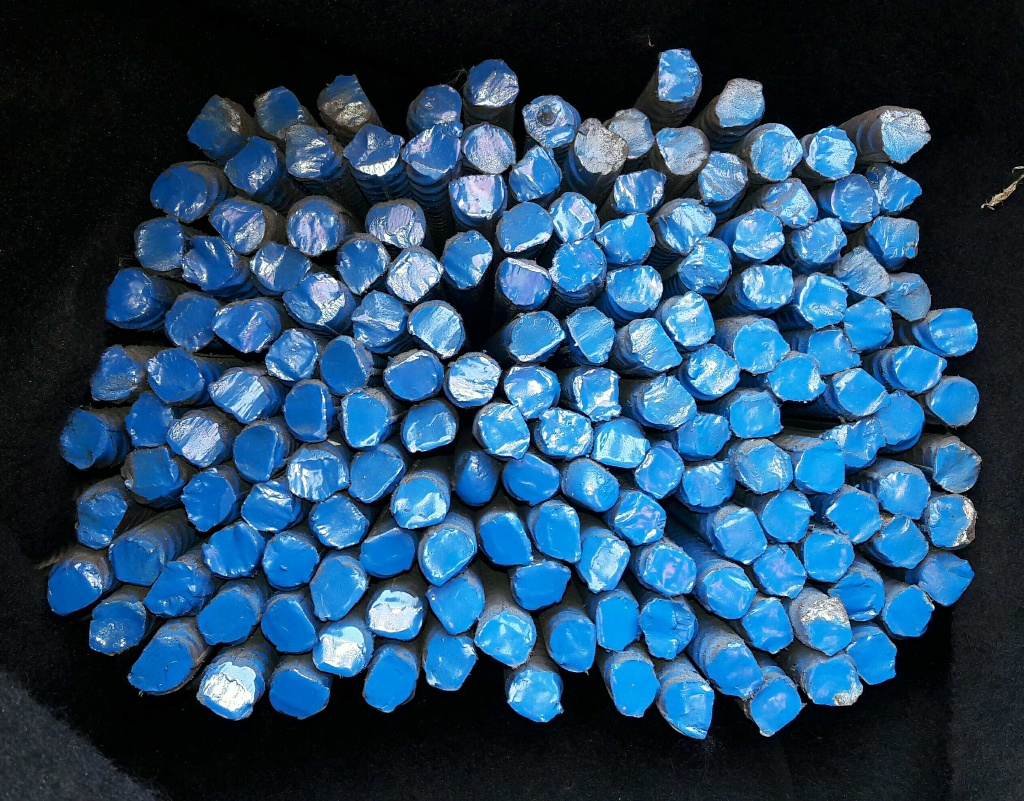dipstick: (310, 555, 366, 620), (145, 561, 211, 616), (127, 638, 194, 692), (640, 598, 698, 660), (426, 575, 485, 634), (475, 612, 536, 669), (283, 272, 346, 326), (181, 472, 236, 532), (421, 527, 477, 585), (149, 166, 208, 221), (121, 447, 182, 500), (364, 651, 417, 712), (198, 590, 258, 643), (287, 449, 348, 501), (187, 95, 242, 152), (197, 664, 254, 719), (659, 199, 716, 254), (287, 200, 345, 254), (575, 117, 629, 175), (748, 123, 802, 181), (309, 495, 368, 548), (320, 336, 372, 396), (638, 375, 698, 427), (383, 349, 444, 400), (89, 601, 145, 656), (387, 248, 443, 303), (261, 598, 318, 652), (504, 365, 561, 419), (550, 238, 607, 292), (736, 440, 793, 494), (403, 124, 461, 177), (209, 371, 268, 423), (425, 632, 477, 691), (58, 408, 107, 470), (352, 291, 406, 347), (338, 237, 391, 294), (522, 95, 581, 146), (365, 199, 426, 248), (209, 201, 265, 254), (678, 237, 731, 293), (166, 416, 224, 467), (508, 311, 566, 362), (663, 682, 714, 740), (269, 669, 329, 718), (47, 561, 101, 615), (225, 137, 278, 192), (509, 145, 562, 200), (89, 346, 141, 402), (504, 452, 560, 504), (754, 543, 806, 599), (165, 296, 218, 350), (349, 449, 403, 502), (565, 459, 619, 512), (921, 553, 975, 606), (203, 525, 258, 577), (263, 534, 318, 586), (508, 670, 563, 722), (732, 321, 787, 373), (497, 202, 553, 253), (802, 598, 853, 654), (566, 306, 615, 364), (832, 367, 890, 416), (480, 512, 533, 565), (629, 318, 682, 371), (702, 566, 755, 619), (876, 515, 929, 568), (715, 509, 767, 563), (76, 493, 126, 549), (344, 125, 400, 175), (443, 231, 493, 287), (579, 535, 629, 591), (213, 304, 270, 353), (536, 500, 581, 562), (284, 384, 332, 442), (597, 214, 655, 262), (611, 659, 659, 717), (407, 306, 461, 357), (830, 571, 884, 622), (392, 477, 447, 527), (368, 590, 423, 640), (835, 247, 891, 296), (147, 350, 199, 402), (750, 678, 802, 730), (183, 237, 236, 288), (499, 257, 552, 308), (743, 600, 794, 653), (827, 492, 880, 543), (241, 482, 295, 532), (594, 418, 648, 468), (881, 110, 931, 164), (360, 528, 415, 577), (709, 648, 764, 697), (866, 164, 922, 212), (513, 563, 570, 610), (806, 659, 863, 706), (317, 75, 369, 126), (478, 404, 529, 456), (644, 546, 697, 596), (633, 445, 683, 498), (656, 126, 710, 175), (764, 179, 818, 228), (615, 493, 666, 544), (806, 128, 857, 179), (285, 124, 335, 176), (265, 330, 317, 380), (733, 210, 785, 260), (403, 402, 456, 451), (698, 151, 749, 201), (804, 532, 855, 582), (448, 357, 500, 406), (541, 409, 593, 458), (254, 244, 309, 290), (608, 265, 663, 311), (550, 192, 599, 243), (843, 297, 892, 348), (796, 442, 845, 493), (927, 495, 976, 546), (255, 86, 303, 138), (125, 394, 173, 446), (666, 293, 714, 345), (799, 273, 846, 326), (106, 268, 152, 322), (341, 392, 386, 447), (233, 424, 277, 480), (596, 595, 640, 651), (448, 175, 505, 218), (875, 393, 925, 442), (688, 345, 739, 393), (467, 59, 519, 106), (762, 490, 809, 542), (453, 452, 499, 505), (573, 368, 619, 421), (893, 346, 946, 392), (464, 126, 514, 174), (929, 378, 979, 426), (135, 218, 182, 269), (849, 633, 896, 684), (879, 472, 930, 519), (769, 356, 823, 400), (831, 174, 879, 223), (608, 108, 654, 159), (550, 620, 595, 672), (683, 461, 735, 506), (794, 218, 846, 263), (808, 330, 861, 374), (716, 78, 764, 126), (933, 443, 980, 492), (931, 308, 978, 356), (886, 588, 932, 637), (614, 169, 665, 213), (730, 393, 781, 437), (312, 634, 364, 677), (678, 414, 731, 456), (657, 49, 699, 102), (110, 540, 159, 585), (888, 272, 931, 321), (841, 420, 885, 467), (742, 265, 793, 305), (412, 85, 462, 125), (872, 217, 918, 260)
